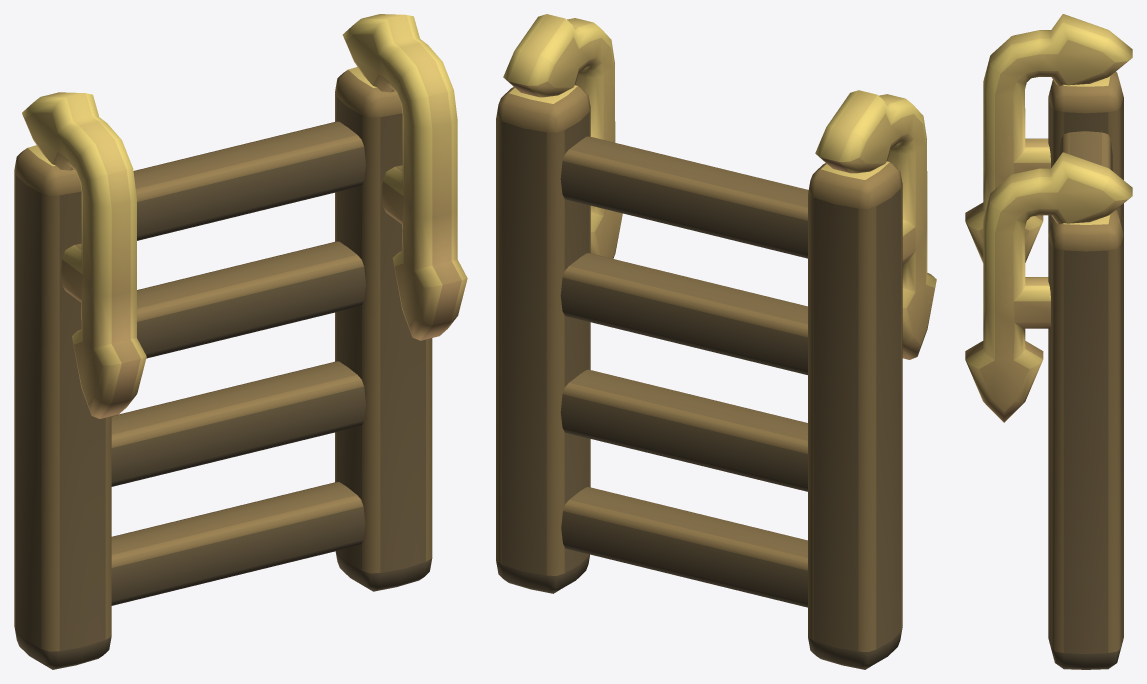
The model's file is Wood_Ladder_Top.fbx.
3 renders of one model, left to right at view 1: azimuth 30°, elevation 25°; view 2: azimuth 150°, elevation 25°; view 3: azimuth 270°, elevation 25°, orthographic. The views are drawn at different scales.
Visible parts, largest first — view 1: Wood_Ladder_Top_LOD0; view 2: Wood_Ladder_Top_LOD0; view 3: Wood_Ladder_Top_LOD0.
Boxes of the visible parts, box(x1,y1,x2,y2) form: Wood_Ladder_Top_LOD0: box(14, 14, 467, 669); Wood_Ladder_Top_LOD0: box(496, 14, 936, 669); Wood_Ladder_Top_LOD0: box(965, 14, 1132, 669).
Size of what is drawn, in the model's own units: 0.8613 by 1.19 by 0.3586.
